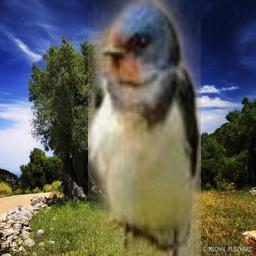Swallow: (88, 0, 201, 256)
